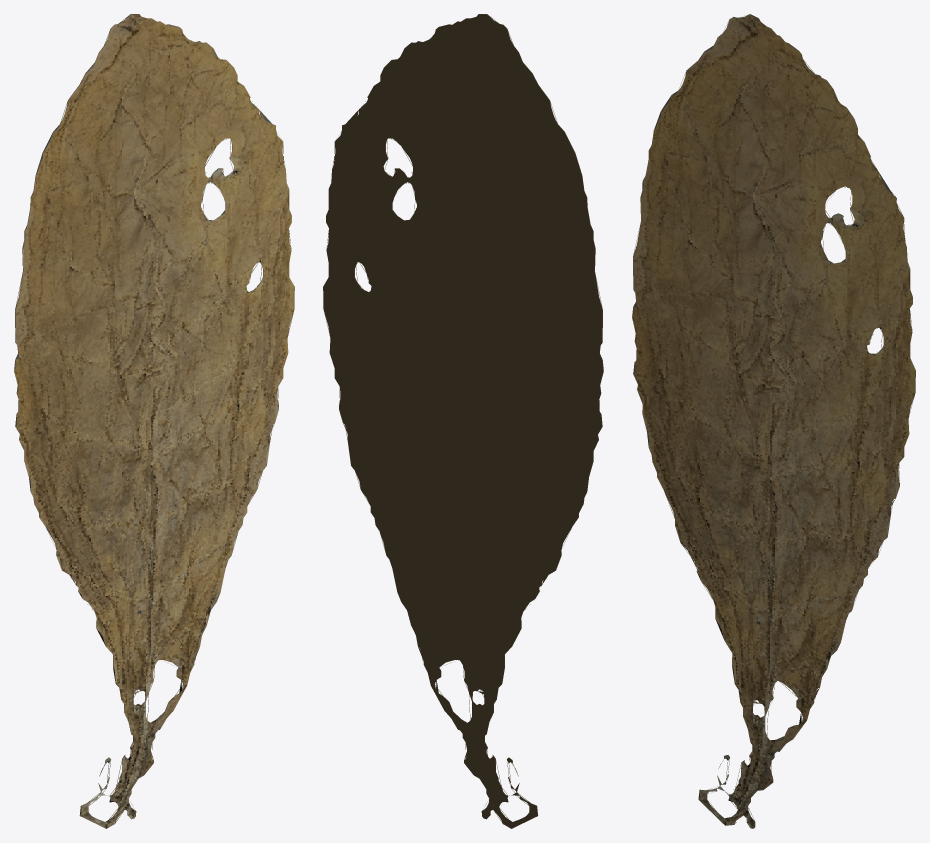
Rendered from 20260911_155539515_iOS.obj.
The picture shows the model from 3 angles, left to right: view 1: azimuth 30°, elevation 25°; view 2: azimuth 150°, elevation 25°; view 3: azimuth 330°, elevation 25°; orthographic projection.
Parts seen in each view (by area): view 1: 20260911_155539515_iOS; view 2: 20260911_155539515_iOS; view 3: 20260911_155539515_iOS.
Part boxes in pixels (x1,y1,x2,y2): 20260911_155539515_iOS: (14,14,294,828); 20260911_155539515_iOS: (323,14,603,828); 20260911_155539515_iOS: (632,14,915,828).
Bounding box in the file's own units: 176 × 484 × 0.3.
